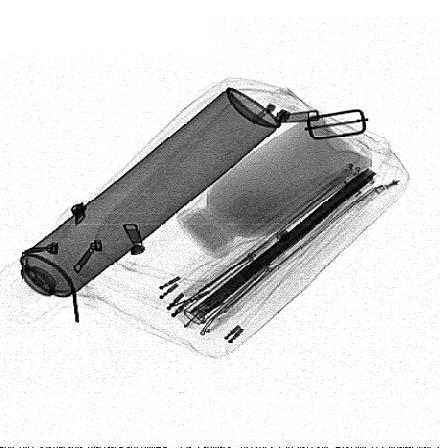Sprayer: (0, 87, 280, 325)
